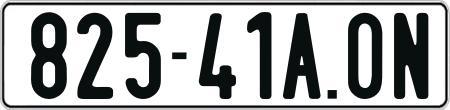0: (348, 12, 382, 103)
1: (247, 10, 272, 103)
2: (77, 13, 119, 100)
4: (197, 13, 234, 101)
5: (122, 11, 158, 103)
8: (31, 12, 71, 104)
A: (280, 13, 320, 102)
N: (392, 12, 431, 104)
